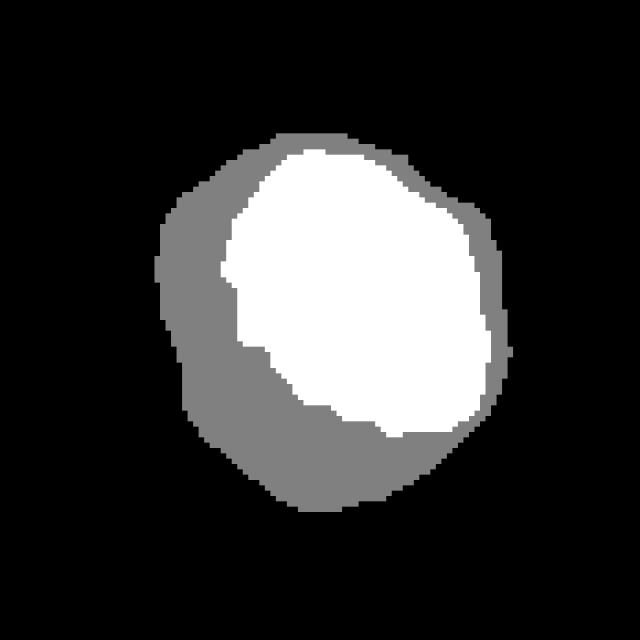WBC: (104, 117, 518, 528)
